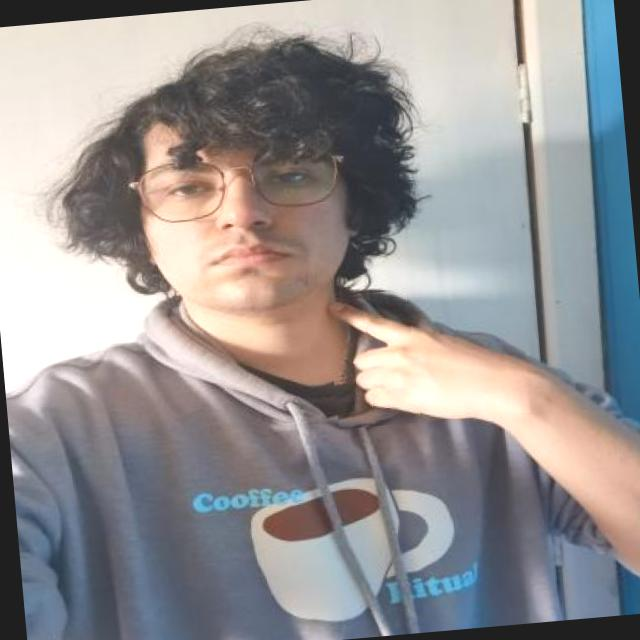Q: (324, 277, 530, 429)
